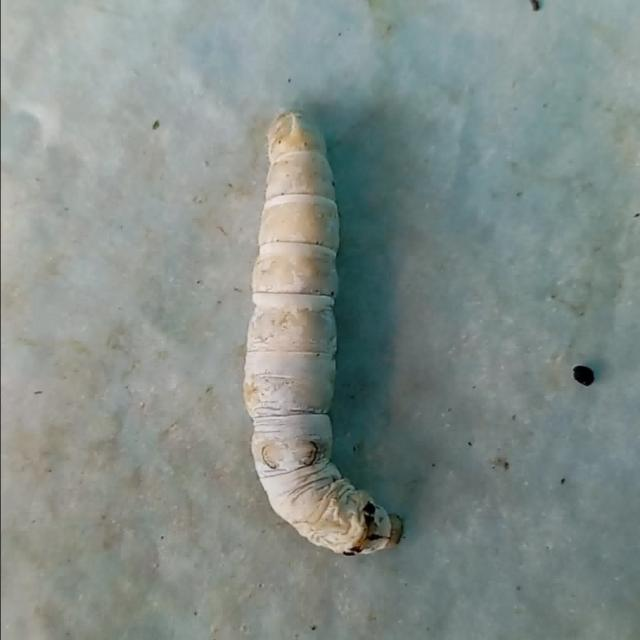Grasserie: (218, 89, 427, 580)
